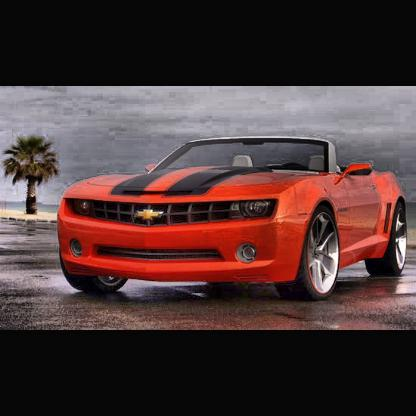Chevrolet Camaro Convertible 2012: (55, 133, 409, 306)
